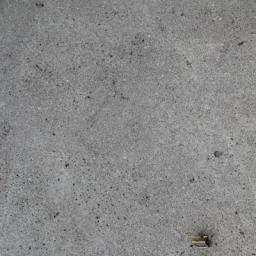FOD: (183, 226, 215, 252)
